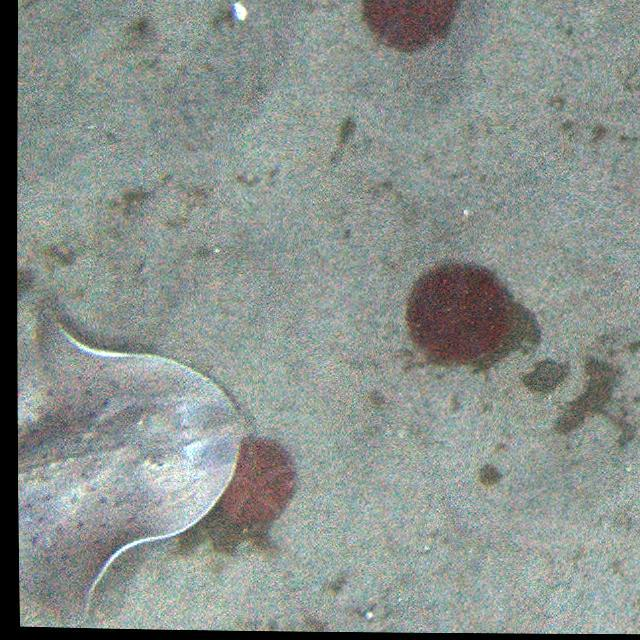skate: (9, 266, 244, 626)
